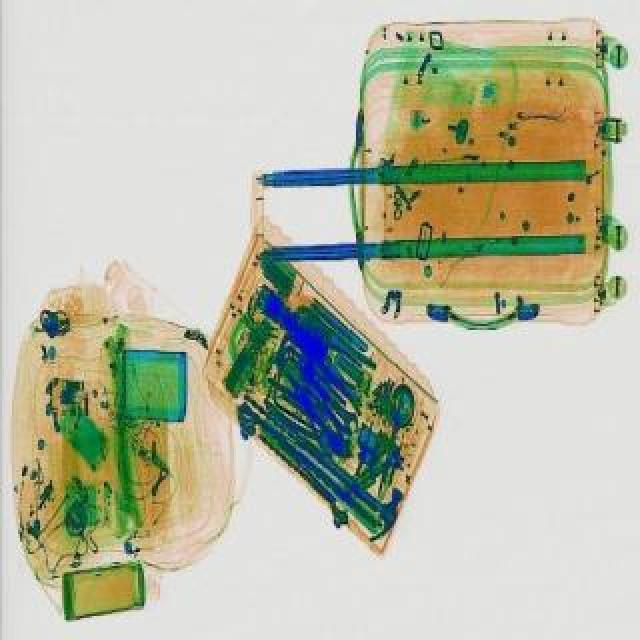scissors: (292, 362, 364, 436)
